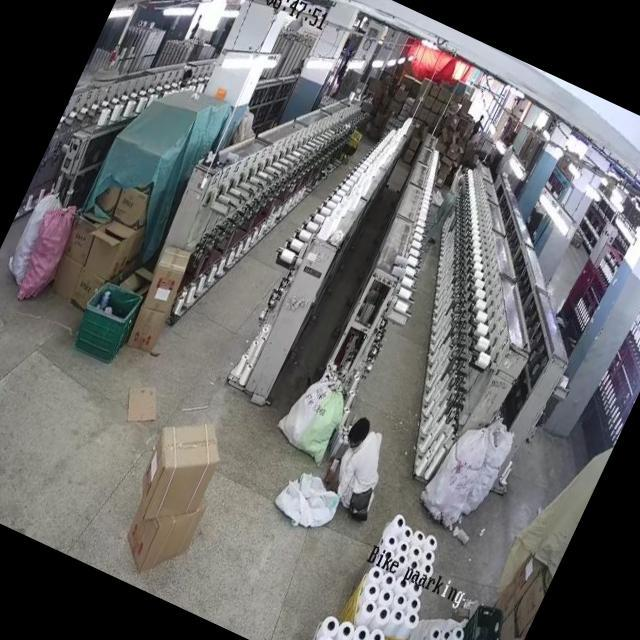person: (322, 412, 402, 510), (424, 158, 476, 246)
